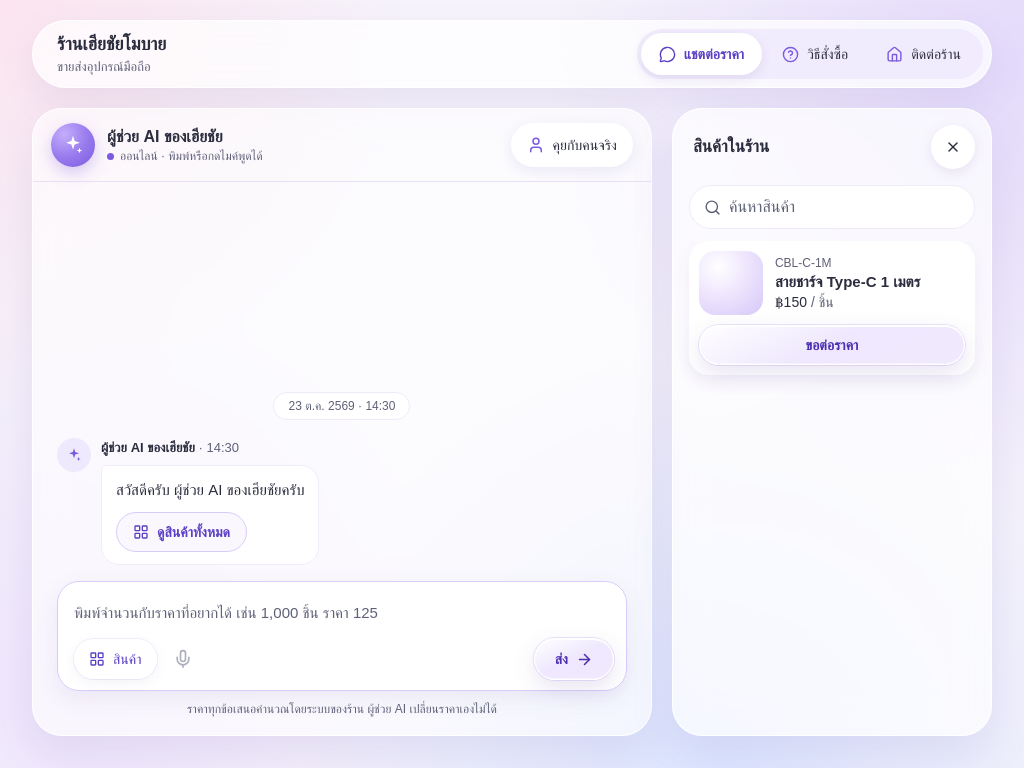
Test: ChatScreen — แชตจริง (ผ่าน API) › โหลดแชตใหม่ชนกับการส่ง (รีวิวรอบ 3) › โหลดที่เริ่มก่อนส่ง แต่มาถึงหลังคำตอบ AI → ไม่ทับคำตอบใหม่ด้วยแชตเก่า
The image size is (1024, 768).
Type "ขอ 125 ได้ไหม 1000 ชิ้น" into the field named "พิมพ์ข้อความ".
click(344, 612); type("ขอ 125 ได้ไหม 1000 ชิ้น")  # box [74, 594, 614, 630]
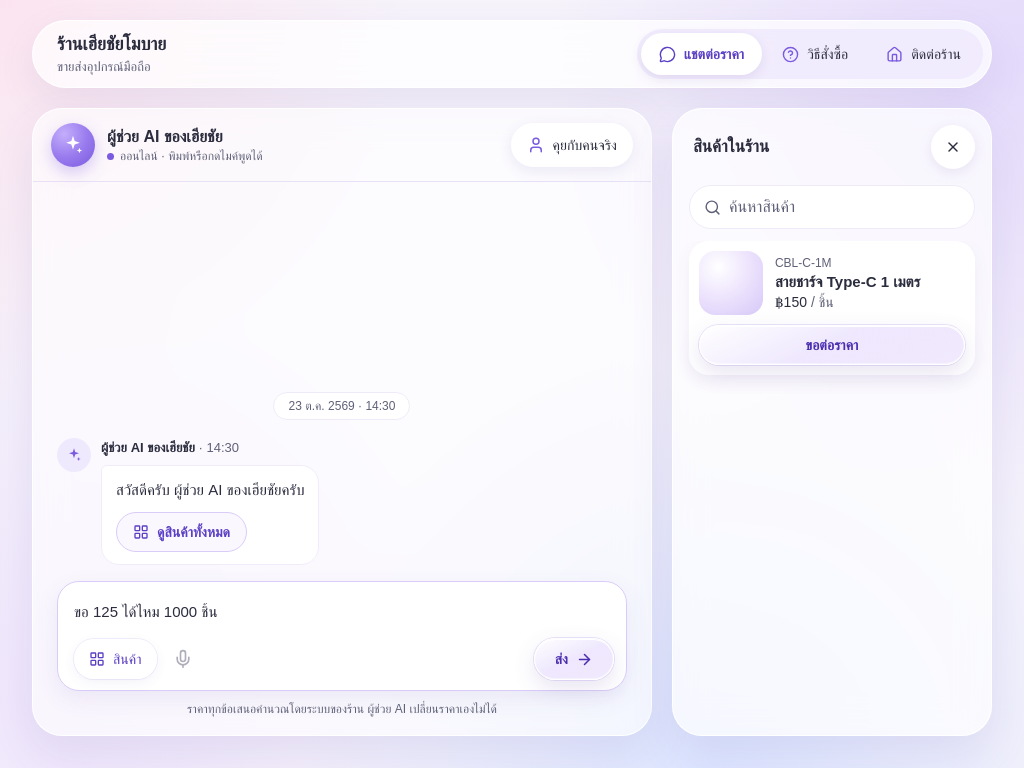
Click the button named "ส่งข้อความ".
click(574, 659)  # box [534, 638, 614, 680]
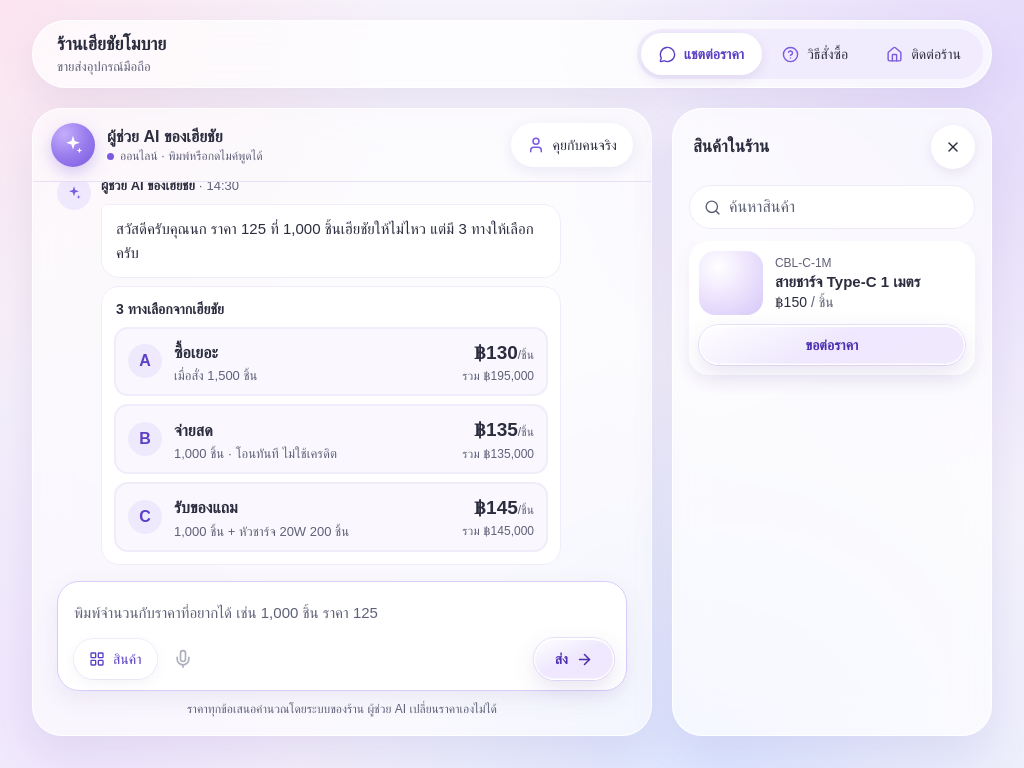
Now the element named "3 ทางเลือกจากเฮียชัย" is shown, box [114, 326, 548, 552]
